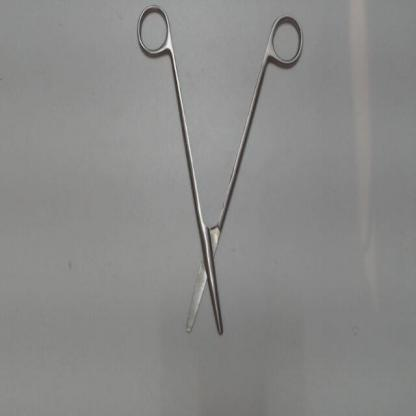9 Metzenbaum Scissors: (130, 2, 312, 340)
